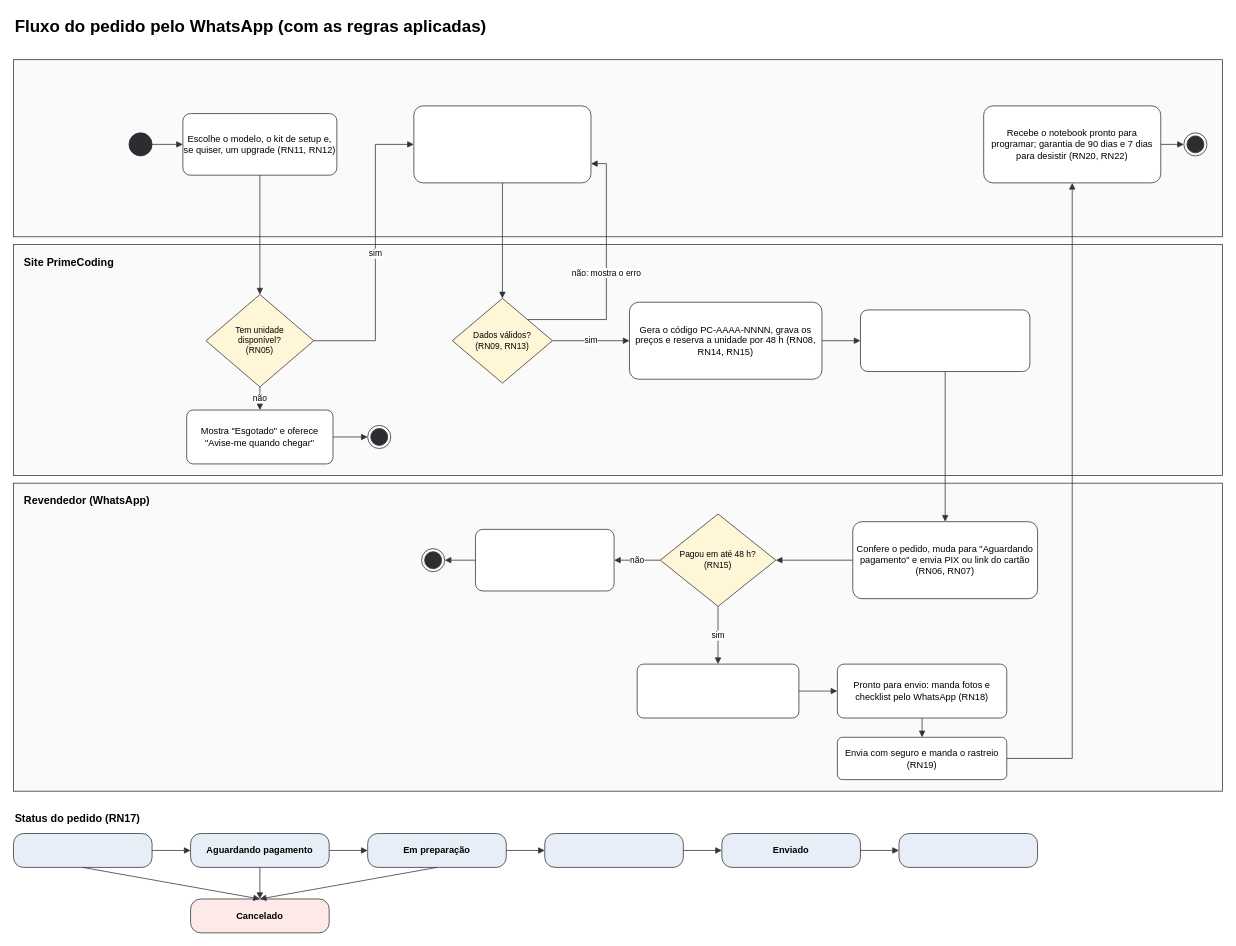
This 1236x946 diagram has some shape labels left out. The box of each missing label's shape, as (x1, y1, x2, y2) in pixels:
Abre o WhatsApp da loja com a mensagem pronta do pedido (RN14): (860, 309, 1030, 372)
Aguardando atendimento: (13, 833, 152, 867)
Cancela o pedido e devolve a unidade à vitrine (RN15): (475, 529, 614, 591)
Cliente: (13, 59, 1222, 237)
Em preparação: revisão final, upgrade e kit de setup (RN16): (636, 663, 799, 718)
Entregue: (898, 833, 1038, 867)
Preenche nome, WhatsApp, CPF ou CNPJ e endereço (RN09, RN13): (413, 105, 591, 183)
Pronto para envio: (544, 833, 683, 867)
